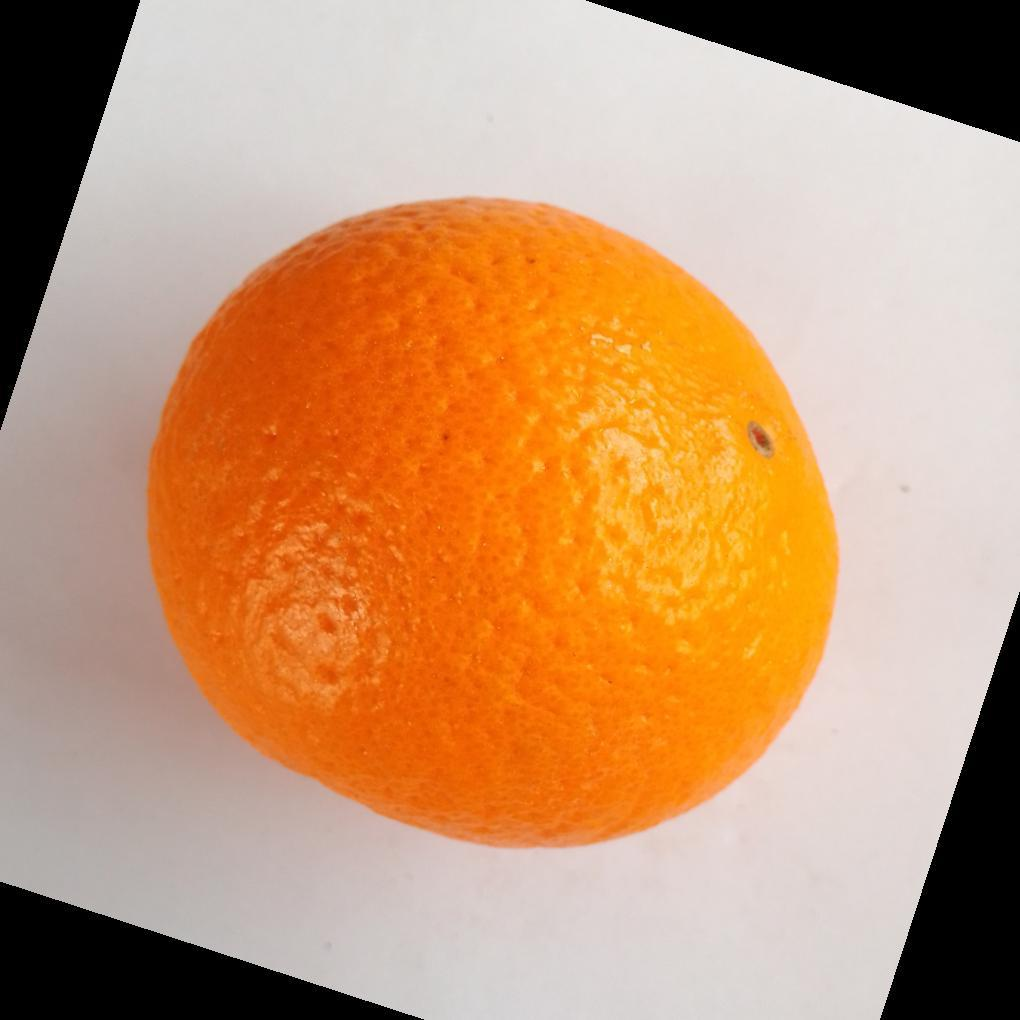FreshGuava: (144, 198, 842, 855)
